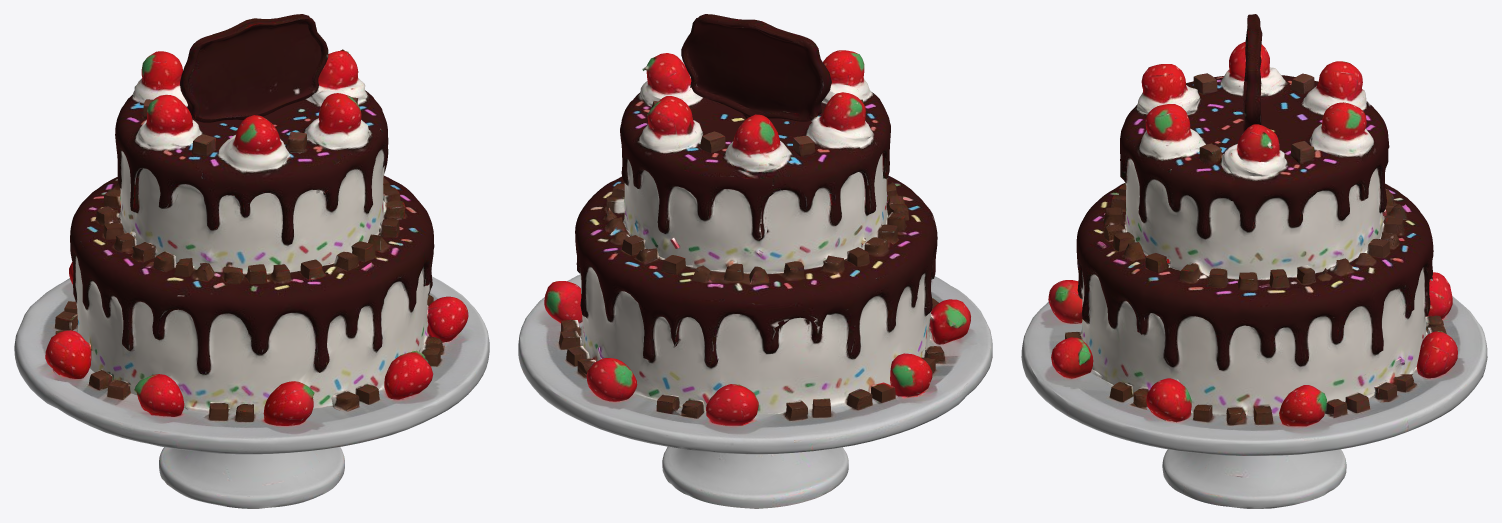
The model's file is cake.glb.
The picture shows the model from 3 angles, left to right: view 1: azimuth 30°, elevation 25°; view 2: azimuth 150°, elevation 25°; view 3: azimuth 270°, elevation 25°; orthographic projection. The views are drawn at different scales.
Bounding box in the file's own units: 1.82 × 1.9 × 1.82.
Materials: 1 (1 with a texture image).
